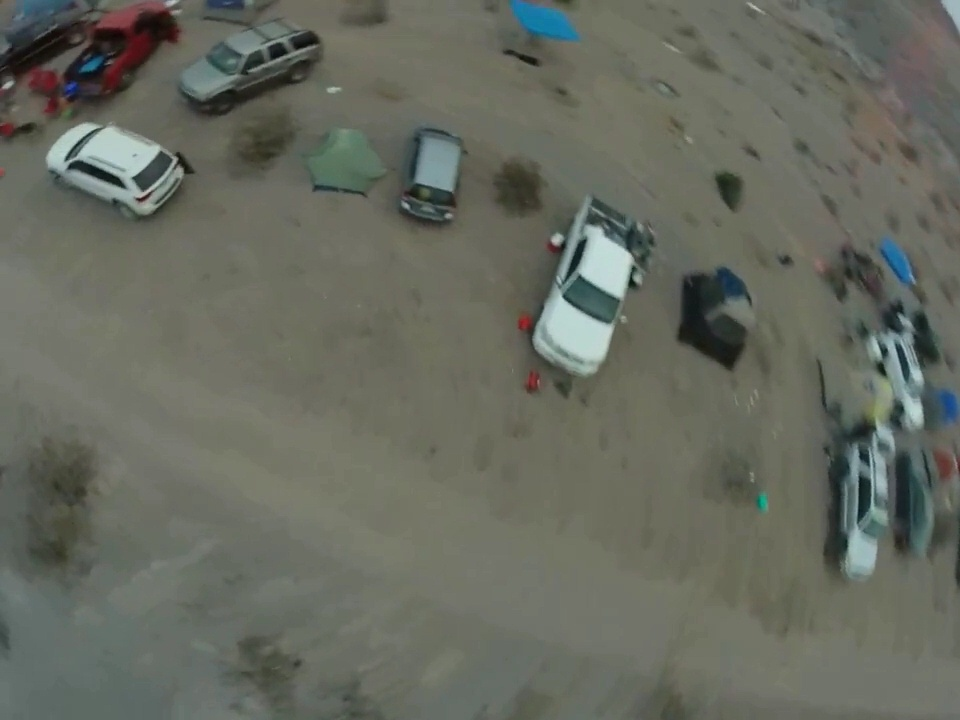araba: (171, 15, 326, 111), (40, 117, 185, 219), (821, 436, 889, 588), (394, 124, 470, 222), (874, 319, 929, 430), (895, 438, 934, 565)
kamyonet: (527, 190, 636, 379)
